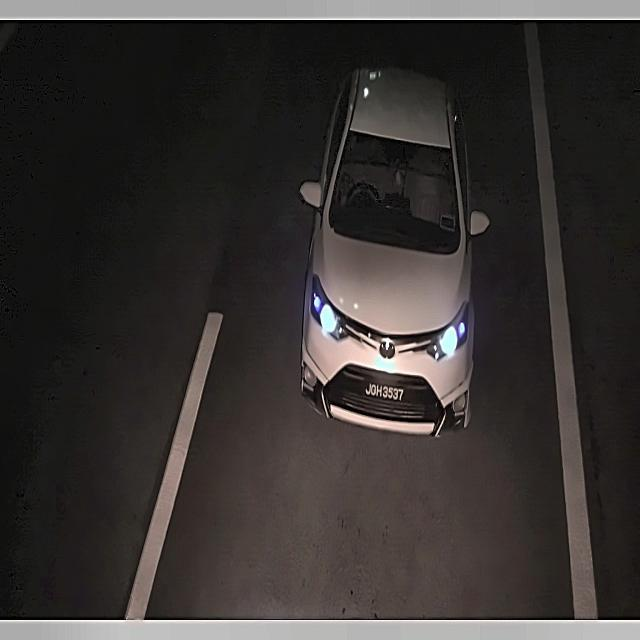car: (355, 369, 411, 413)
